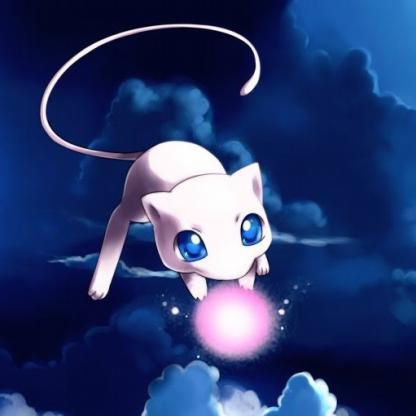Mew: (23, 13, 335, 321)
